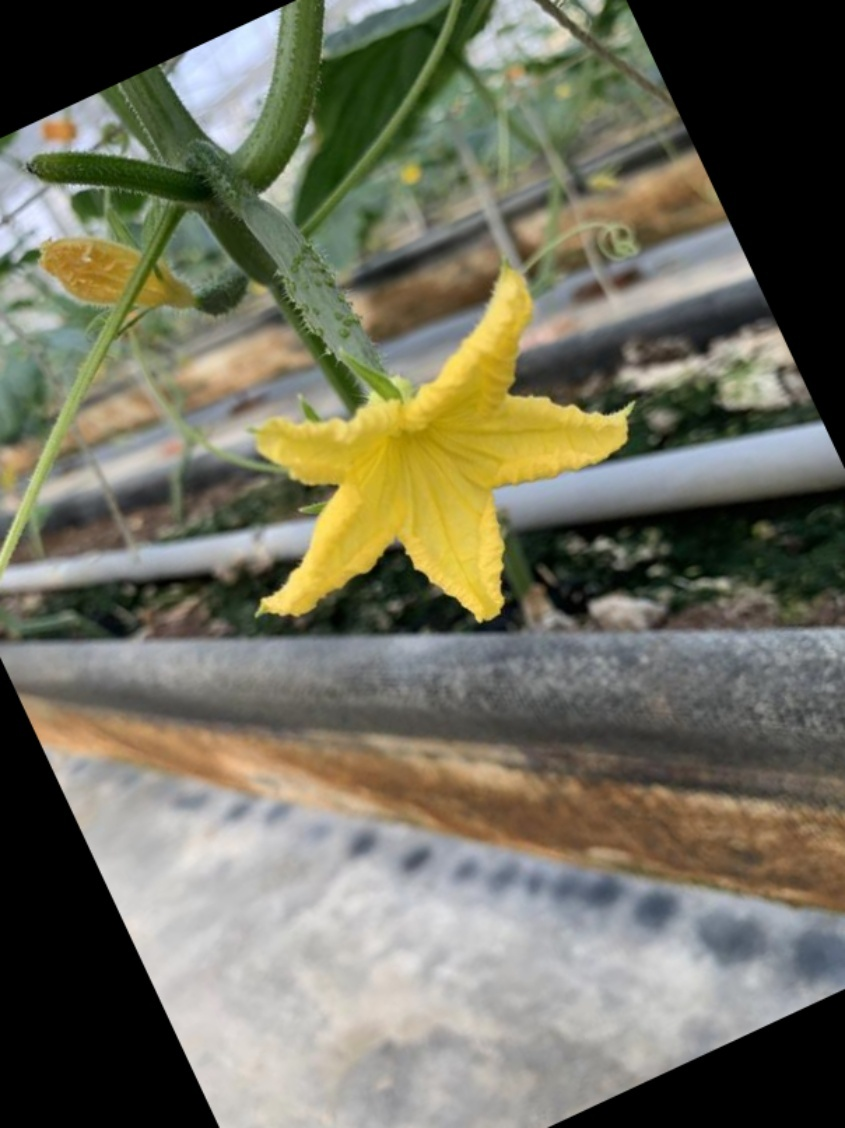flowering: (152, 172, 639, 633)
